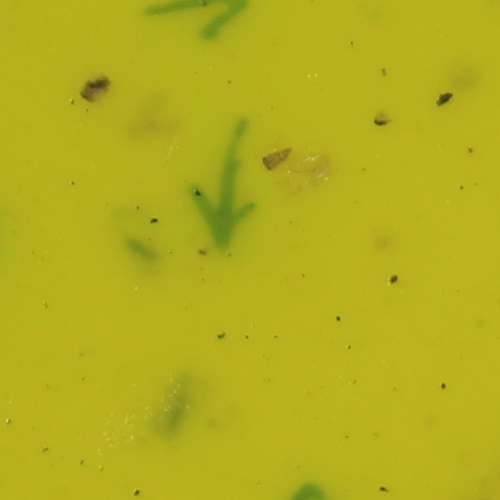Glycaspis: (263, 145, 296, 169)
